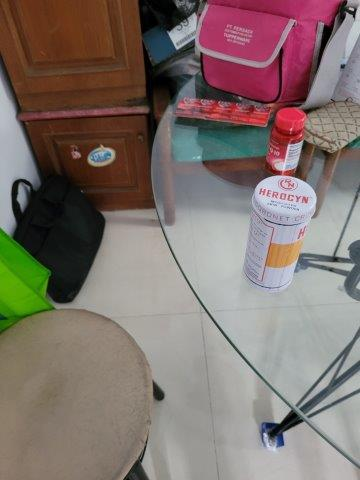kaleng: (243, 176, 317, 290)
